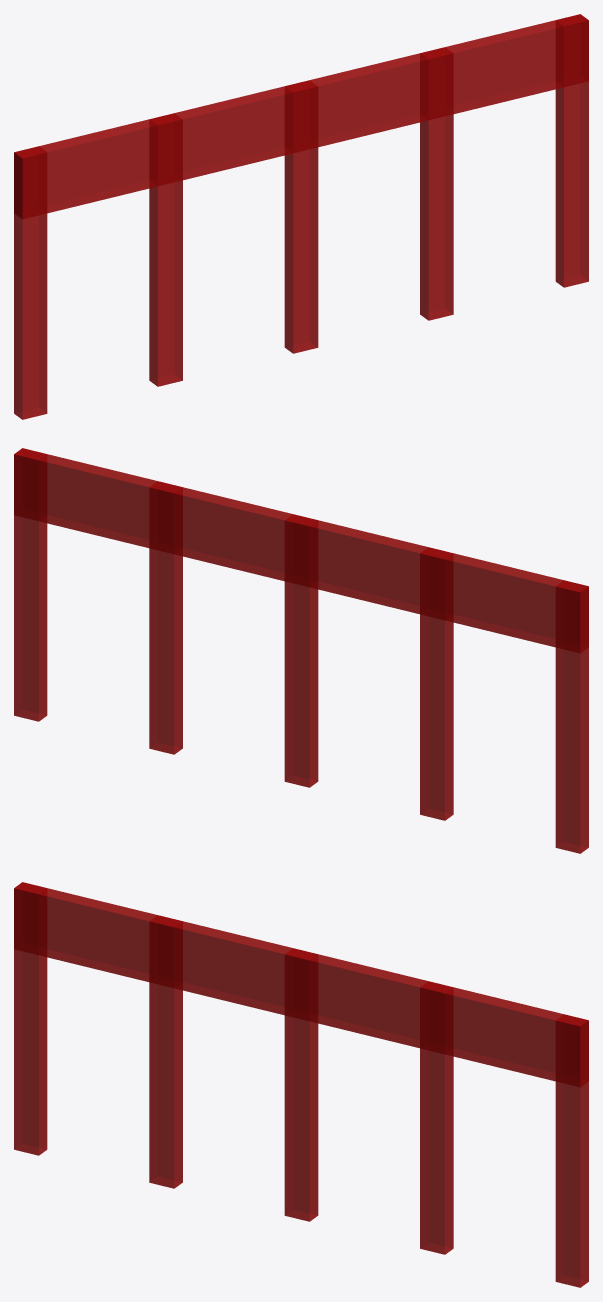
File: SM_Bld_Village_Archway_02_Collision.fbx
3 renders of one model, top to bottom at view 1: azimuth 30°, elevation 25°; view 2: azimuth 150°, elevation 25°; view 3: azimuth 330°, elevation 25°, orthographic.
Parts seen in each view (by area): view 1: SM_Bld_Village_Archway_02_Collision; view 2: SM_Bld_Village_Archway_02_Collision; view 3: SM_Bld_Village_Archway_02_Collision.
Part boxes in pixels (box(x1,y1,x2,y2)): SM_Bld_Village_Archway_02_Collision: box(14, 14, 588, 419); SM_Bld_Village_Archway_02_Collision: box(14, 448, 588, 853); SM_Bld_Village_Archway_02_Collision: box(14, 882, 588, 1287).
Bounding box in the file's own units: 960 × 423 × 25.
